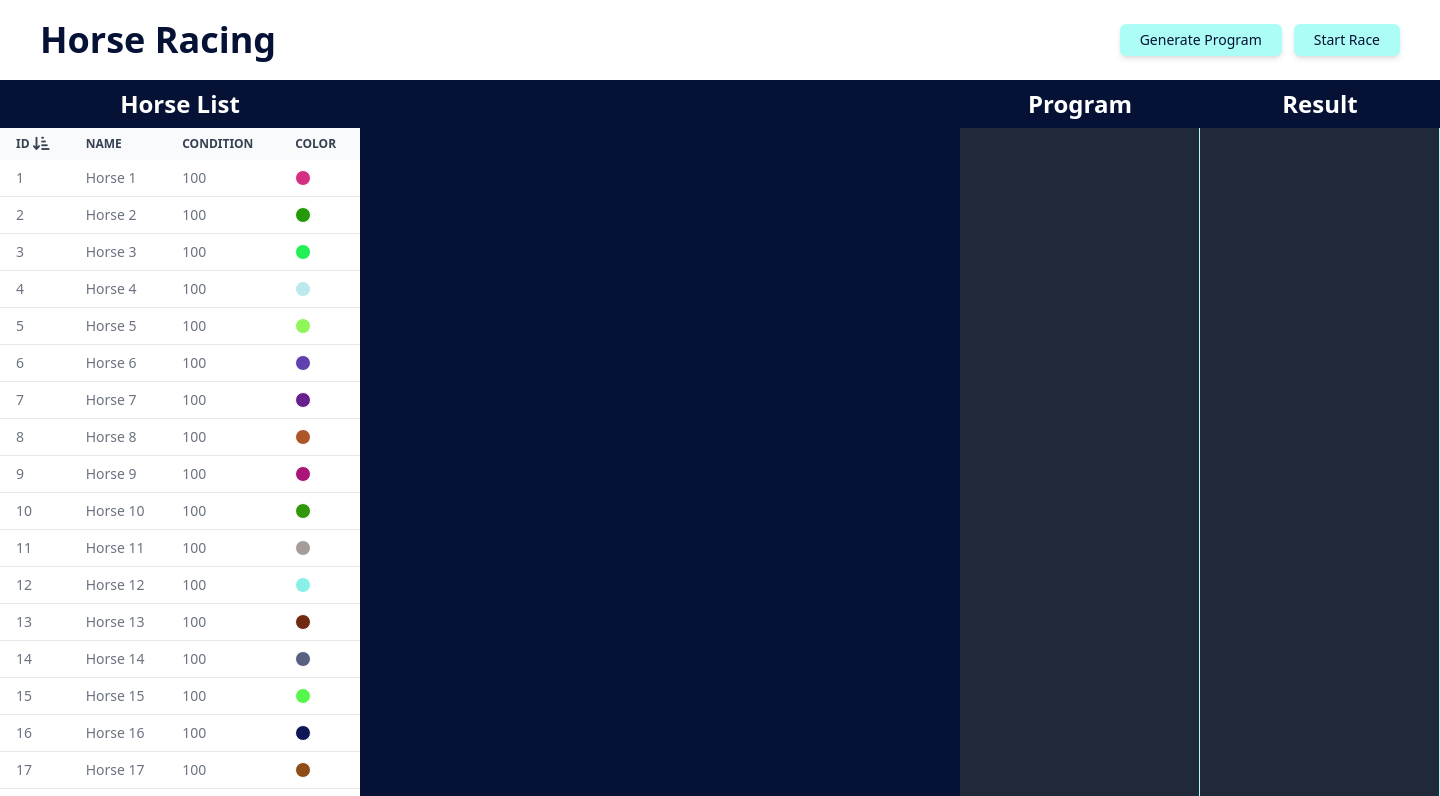
Test: Lap Component › should click "Start Race"
Click the button "Generate Program".
click(1201, 40)  # box [1120,24,1282,56]
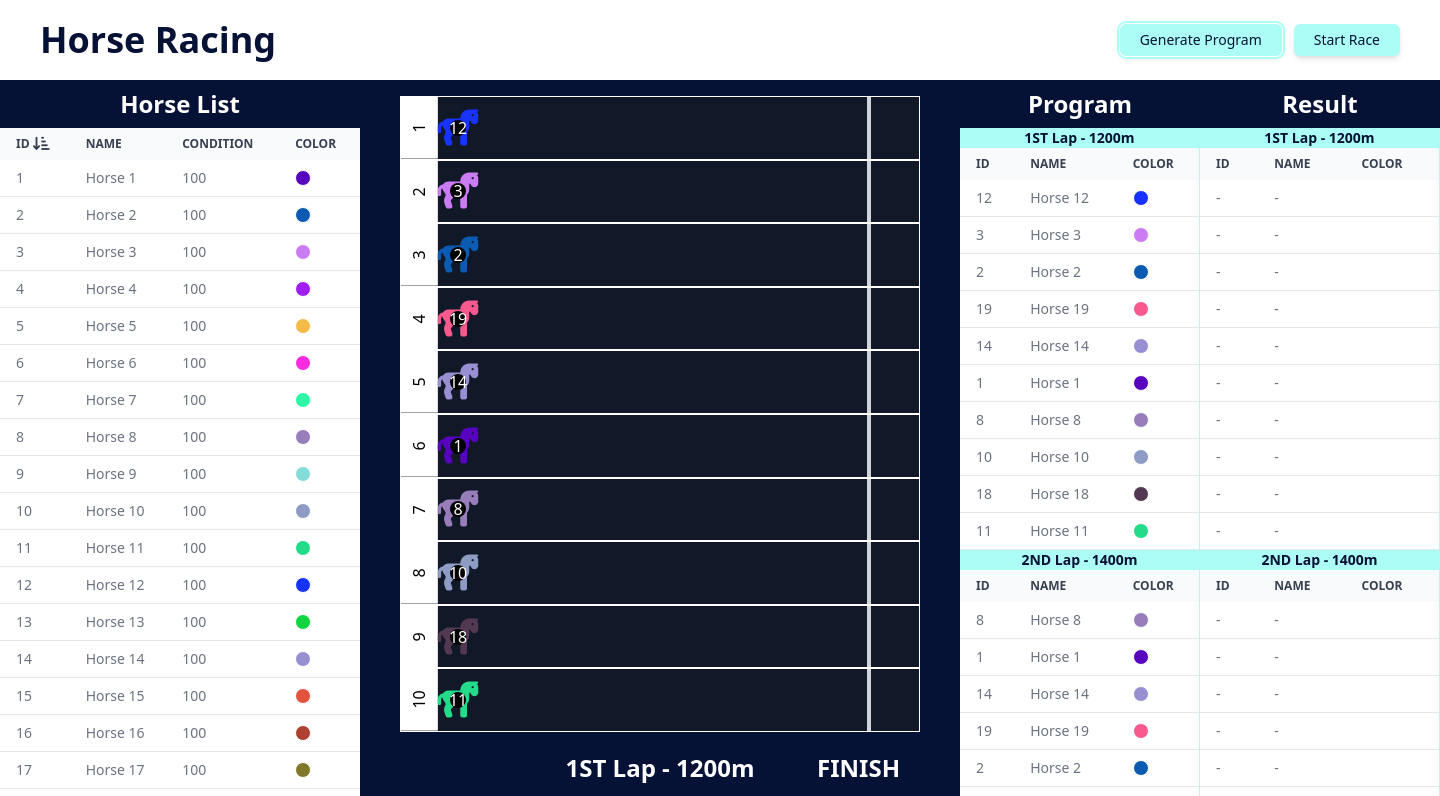
Click the button "Start Race".
click(1347, 40)  # box [1294,24,1400,56]
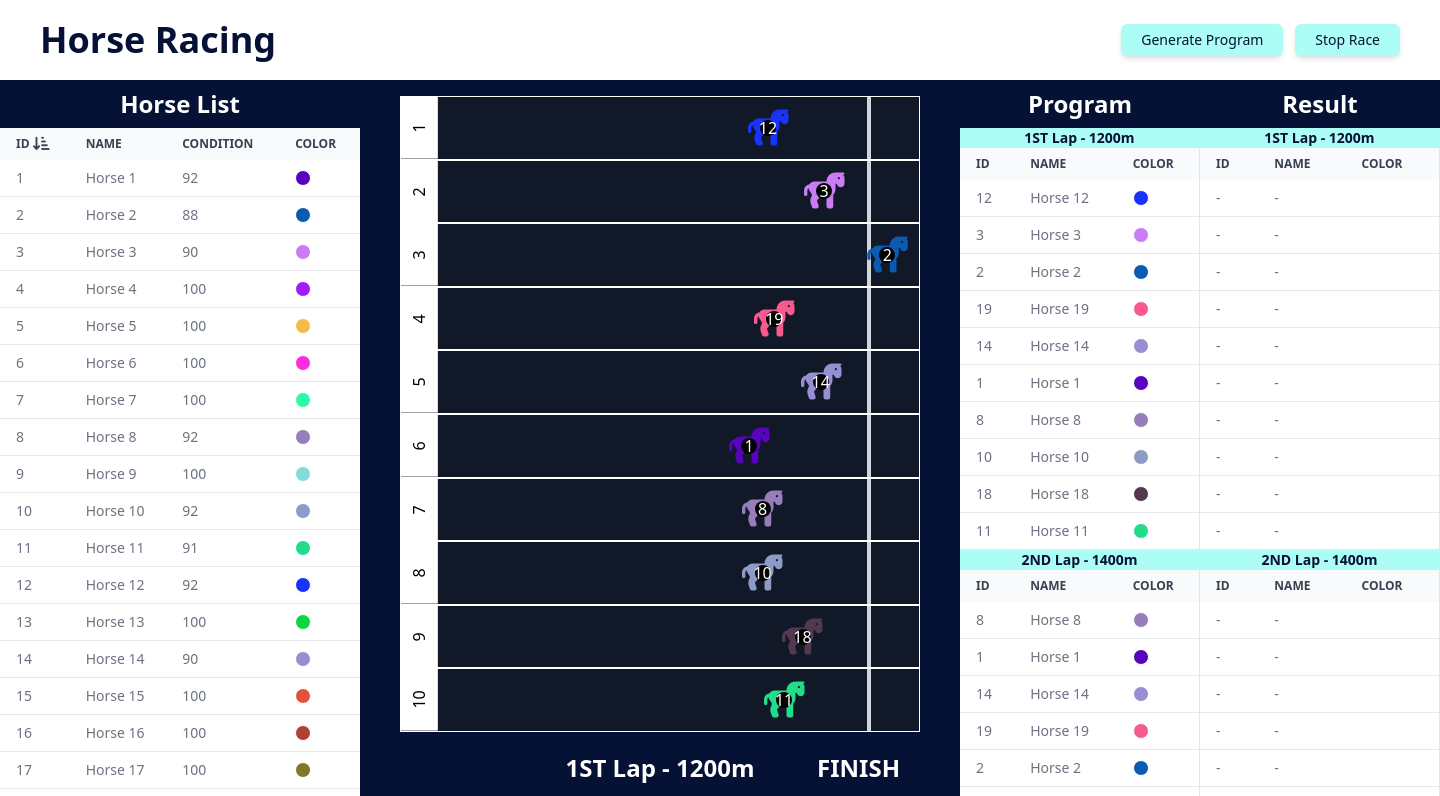
Click the button "Stop Race".
click(1348, 40)  # box [1295,24,1400,56]
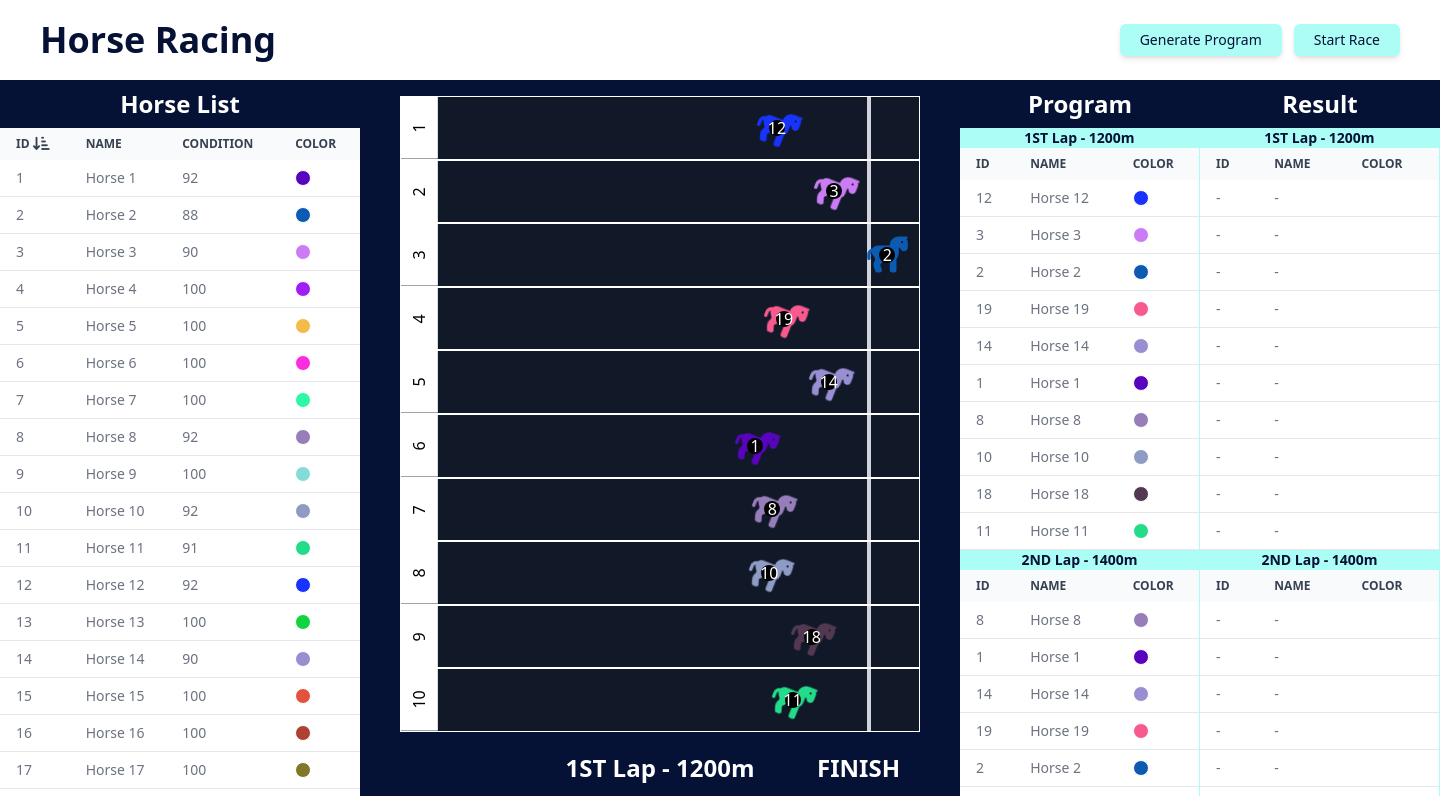
Click the button "Start Race".
click(1347, 40)  # box [1294,24,1400,56]
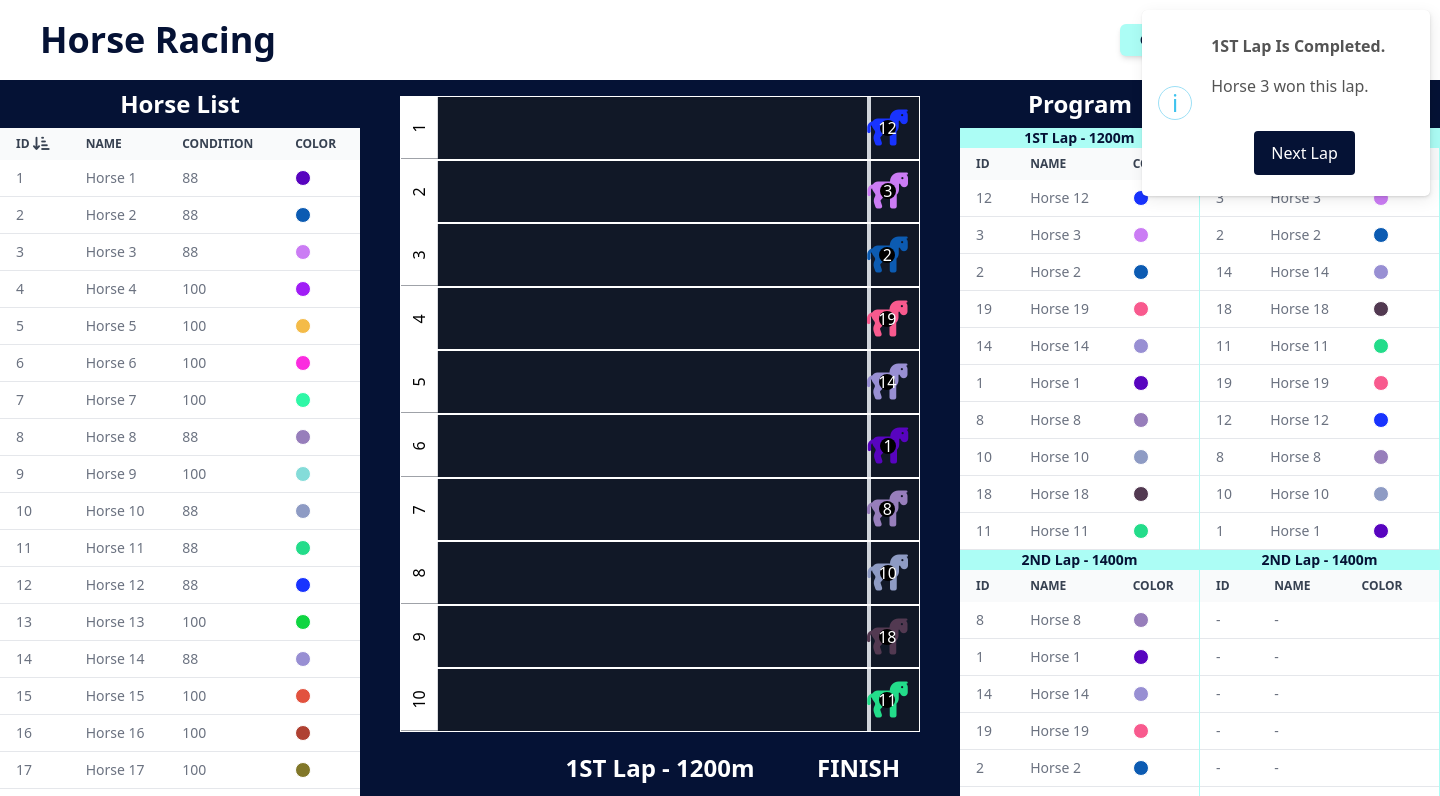
Expected: the 3rd element with class "block" is shown, [1373,190,1389,206]
Expected: the element with class "swal2-container" is shown, [1142,10,1430,196]
